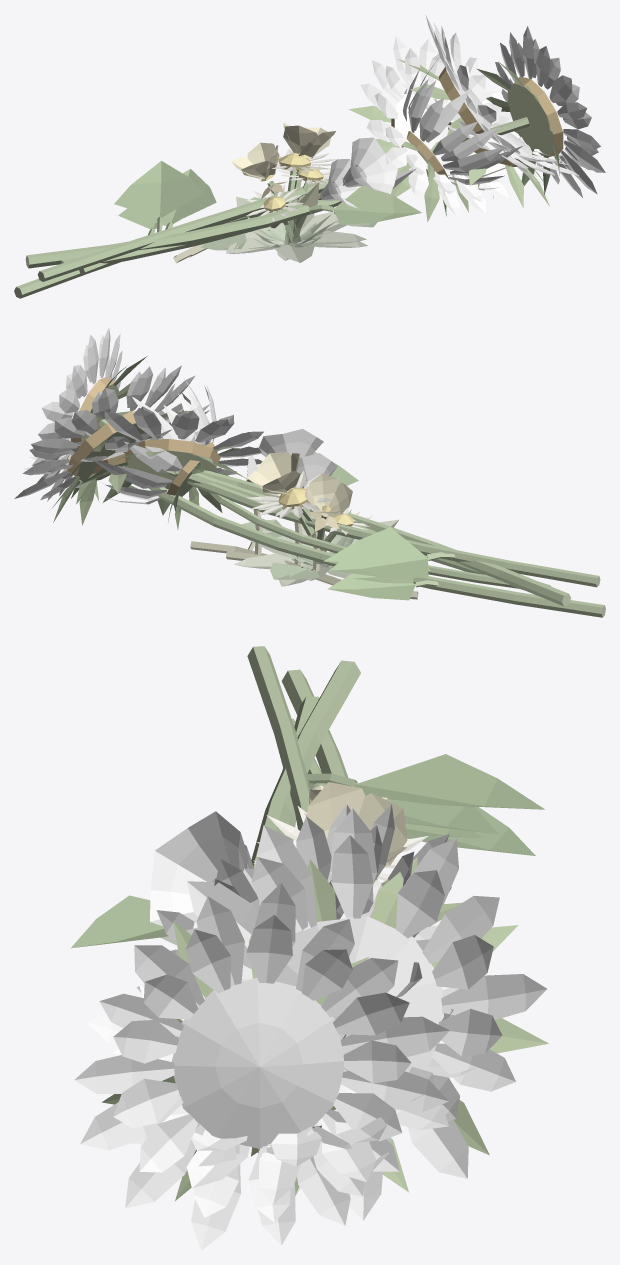
The model's file is flowers.glb.
The picture shows the model from 3 angles, top to bottom: view 1: azimuth 30°, elevation 25°; view 2: azimuth 150°, elevation 25°; view 3: azimuth 270°, elevation 25°; orthographic projection. The views are drawn at different scales.
Visible parts, largest first — view 1: sunflower_c, sunflower_d, sunflower_b, sunflower_bud, sunflower_a, primrose_a, bindweed_a, primrose_b, mayweed_b, mayweed_a, bindweed_b; view 2: sunflower_b, sunflower_c, sunflower_a, sunflower_bud, sunflower_d, primrose_a, bindweed_a, primrose_b, bindweed_b, mayweed_a, mayweed_b; view 3: sunflower_c, sunflower_b, sunflower_a, bindweed_a, sunflower_d, primrose_a, sunflower_bud.
Boxes of the visible parts, bbox=[...] form: sunflower_c: bbox=[37, 26, 605, 281]; sunflower_d: bbox=[60, 36, 522, 264]; sunflower_b: bbox=[25, 15, 543, 268]; sunflower_bud: bbox=[79, 58, 523, 275]; sunflower_a: bbox=[14, 79, 581, 298]; primrose_a: bbox=[226, 123, 366, 262]; bindweed_a: bbox=[173, 137, 397, 263]; primrose_b: bbox=[231, 142, 367, 260]; mayweed_b: bbox=[246, 165, 337, 245]; mayweed_a: bbox=[247, 149, 337, 247]; bindweed_b: bbox=[188, 159, 416, 257]; sunflower_b: bbox=[14, 365, 570, 606]; sunflower_c: bbox=[32, 327, 600, 587]; sunflower_a: bbox=[23, 404, 605, 617]; sunflower_bud: bbox=[94, 377, 517, 588]; sunflower_d: bbox=[75, 406, 550, 590]; primrose_a: bbox=[234, 452, 398, 586]; bindweed_a: bbox=[190, 429, 418, 599]; primrose_b: bbox=[259, 473, 352, 580]; bindweed_b: bbox=[226, 453, 340, 585]; mayweed_a: bbox=[247, 471, 354, 567]; mayweed_b: bbox=[257, 496, 373, 567]; sunflower_c: bbox=[74, 646, 544, 1250]; sunflower_b: bbox=[71, 660, 548, 1220]; sunflower_a: bbox=[86, 669, 535, 1203]; bindweed_a: bbox=[150, 811, 248, 926]; sunflower_d: bbox=[243, 696, 461, 1038]; primrose_a: bbox=[160, 782, 407, 945]; sunflower_bud: bbox=[136, 718, 482, 992].
Bounding box in the file's own units: 0.2192 × 0.0626 × 0.0813.
